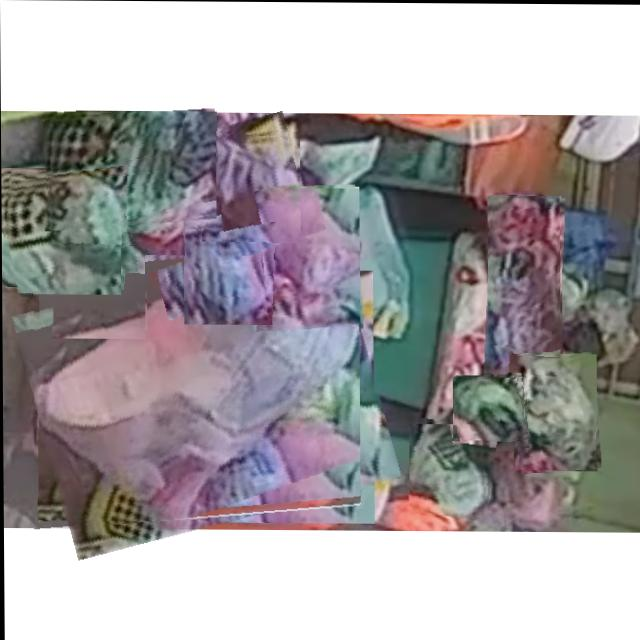general_trashbag: (51, 111, 216, 226), (5, 174, 121, 293), (515, 355, 596, 469), (54, 245, 145, 338), (410, 424, 486, 516), (453, 377, 525, 439)
other_trashbag: (34, 256, 358, 521), (261, 189, 360, 328), (493, 196, 559, 377), (202, 131, 299, 242), (185, 221, 267, 323)
